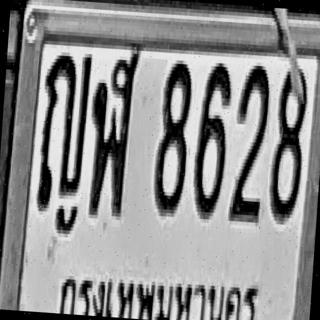A13: (36, 48, 93, 214)
A42: (84, 42, 141, 219)
N02: (228, 61, 271, 223)
N06: (191, 58, 233, 220)
N08: (152, 59, 193, 218), (268, 64, 309, 222)
